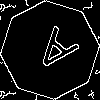A: (25, 25, 80, 82)
